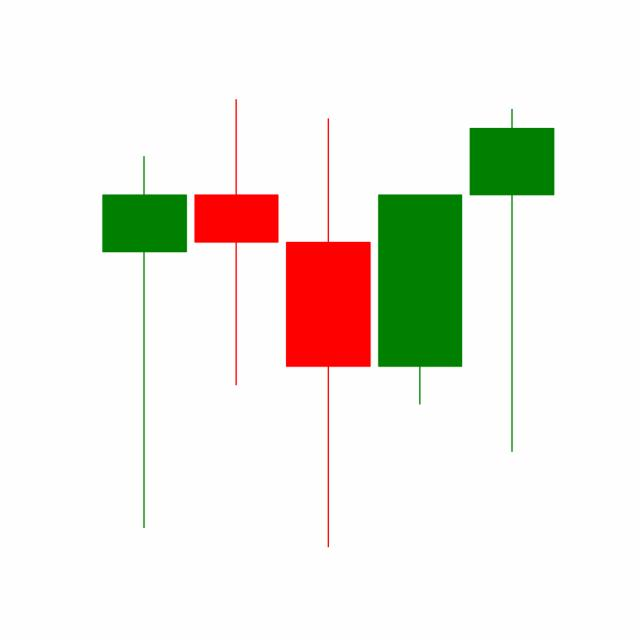Hanging Man: (464, 105, 558, 456)
